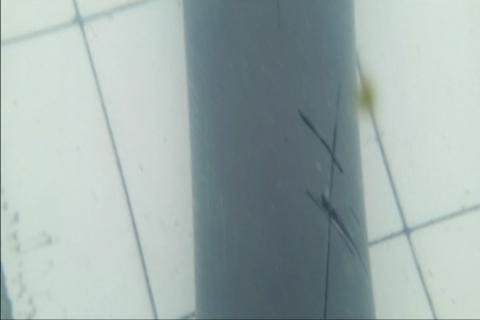keretakan: (296, 77, 361, 319)
